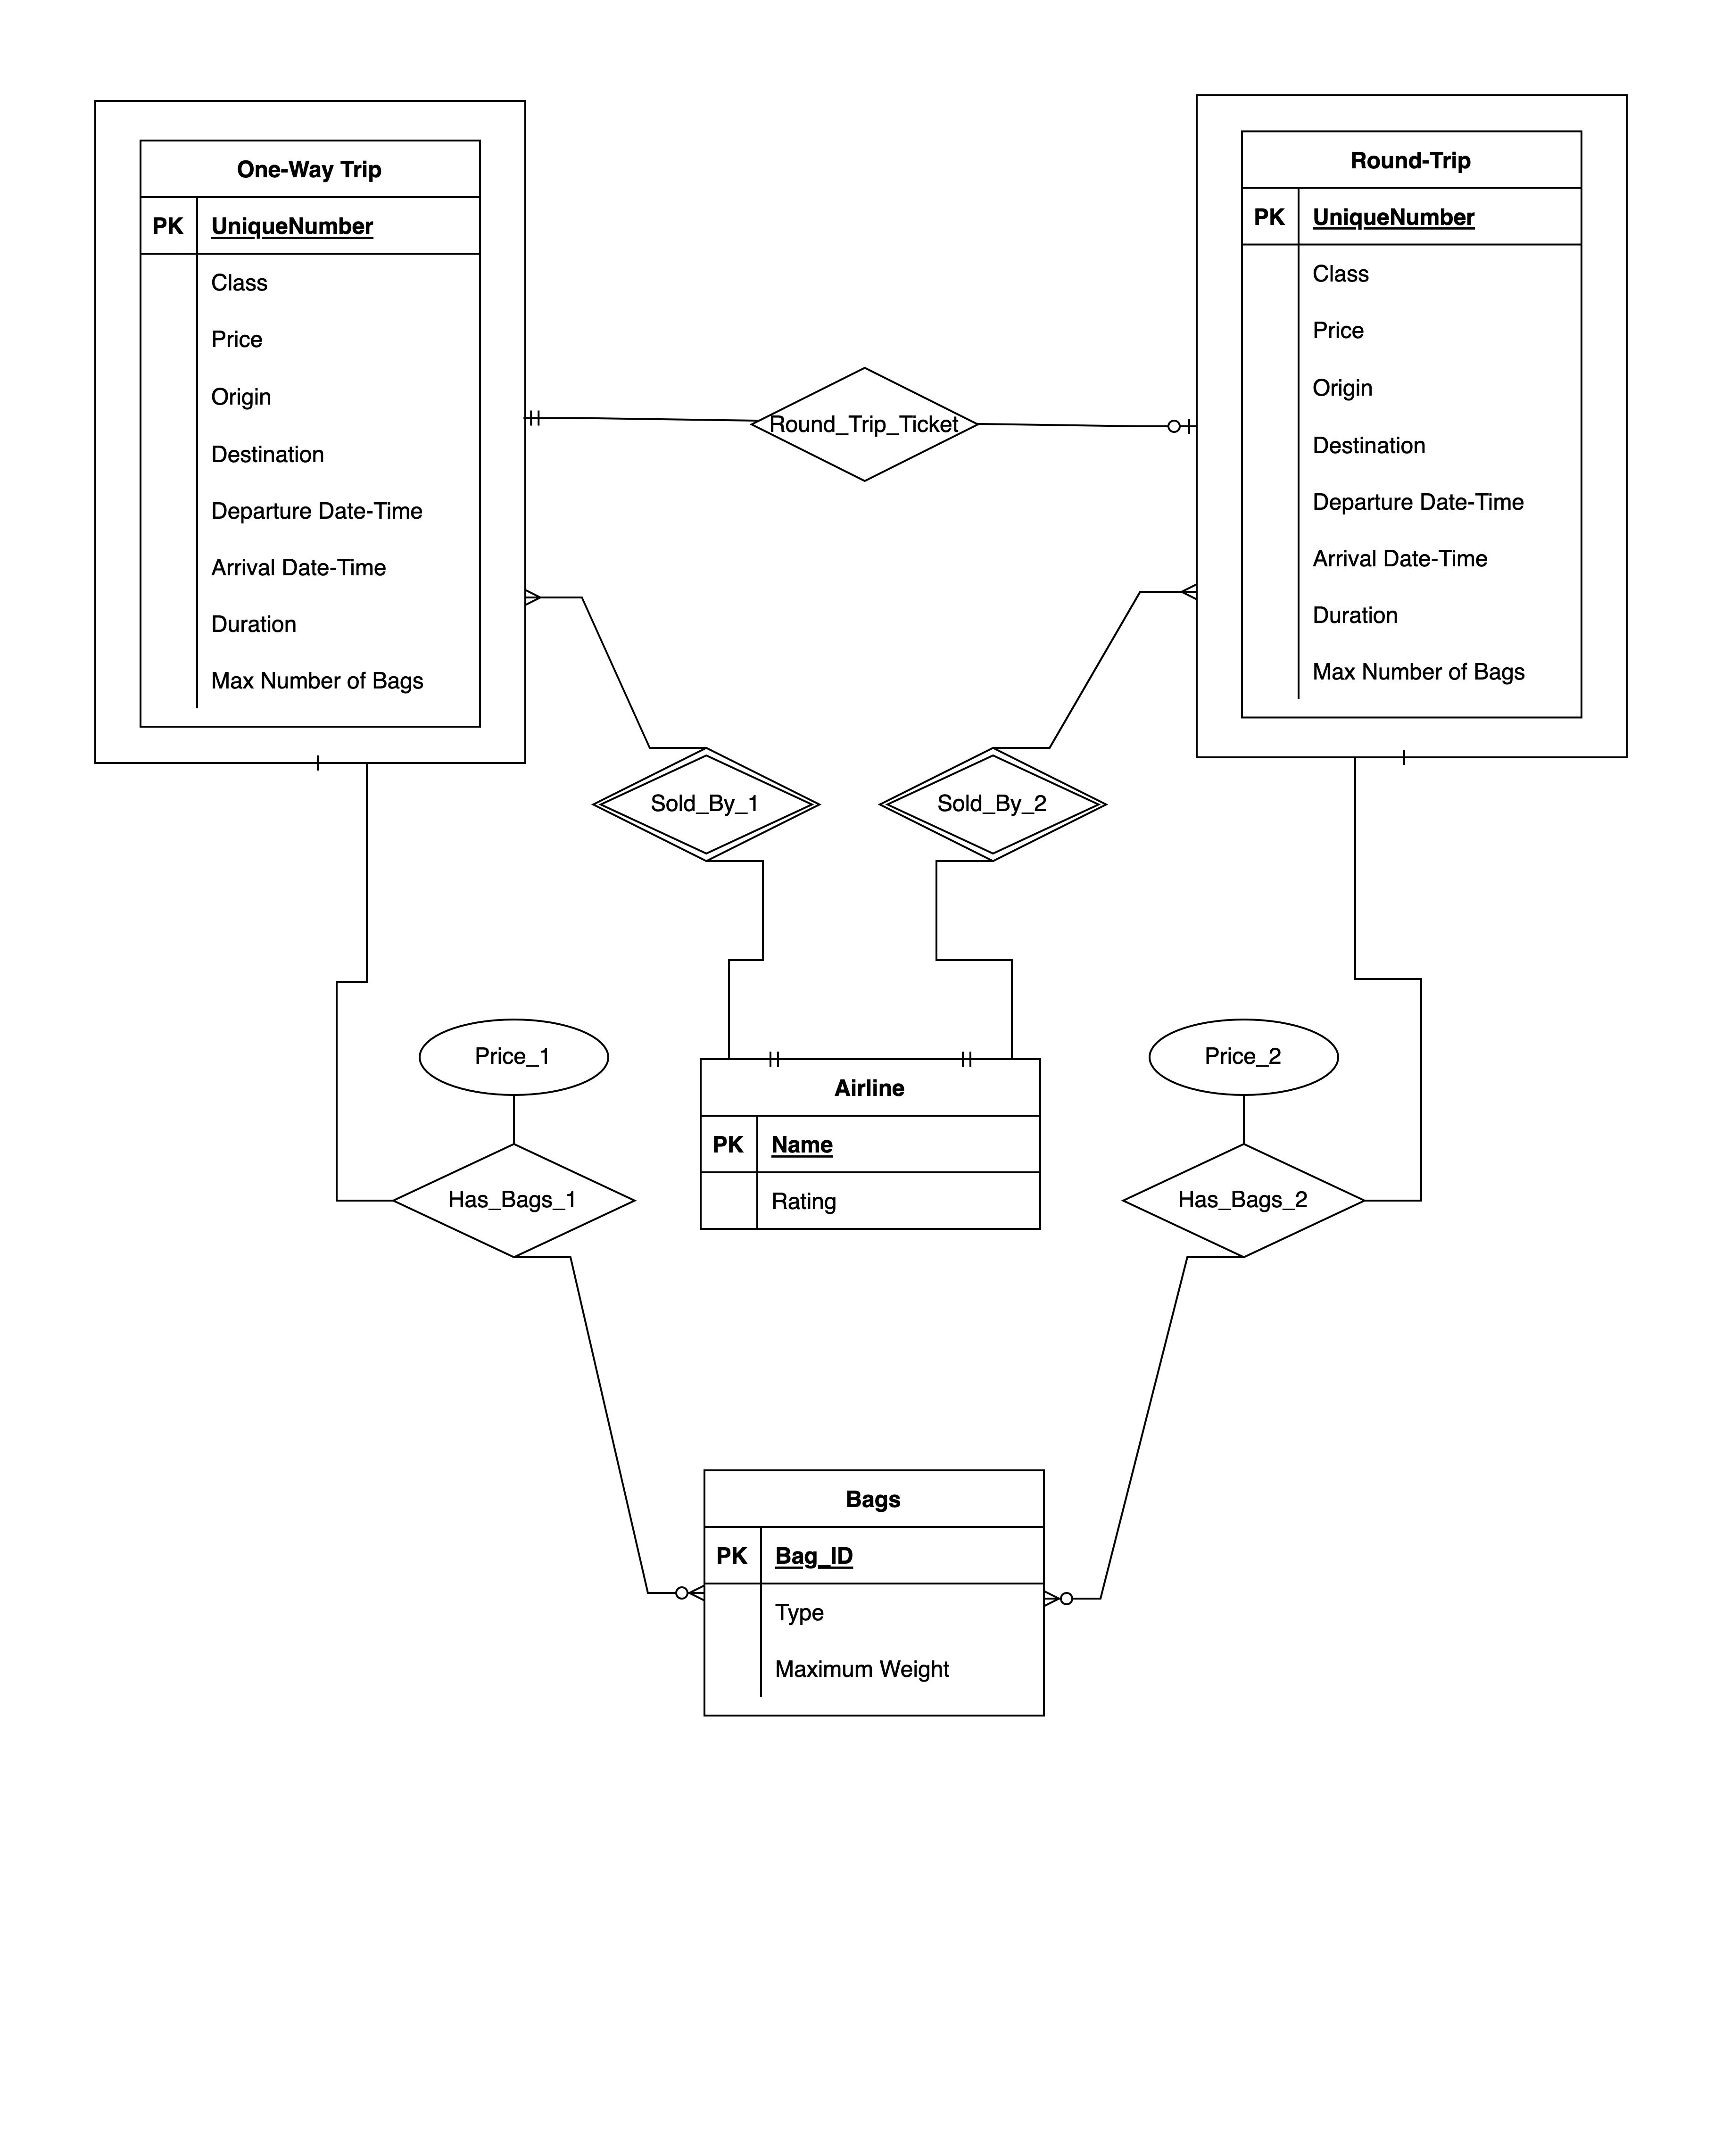attribute: (415, 1017, 610, 1096), (1146, 1019, 1335, 1096)
entity: (86, 93, 532, 777), (699, 1469, 1045, 1724), (692, 1045, 1045, 1248)
relationship: (394, 1142, 638, 1256), (754, 369, 989, 487), (1126, 1146, 1364, 1256)
weakentity: (1184, 88, 1629, 777)
weakrelationship: (879, 743, 1112, 866), (597, 745, 819, 866)
